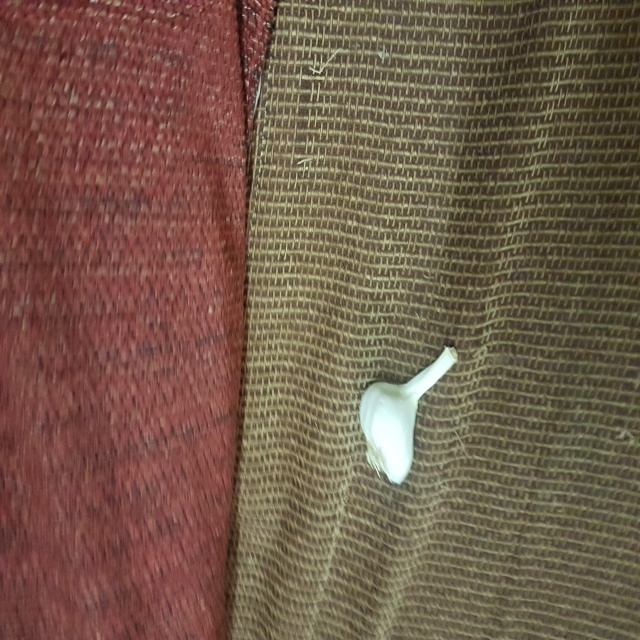garlic: (350, 333, 477, 494)
